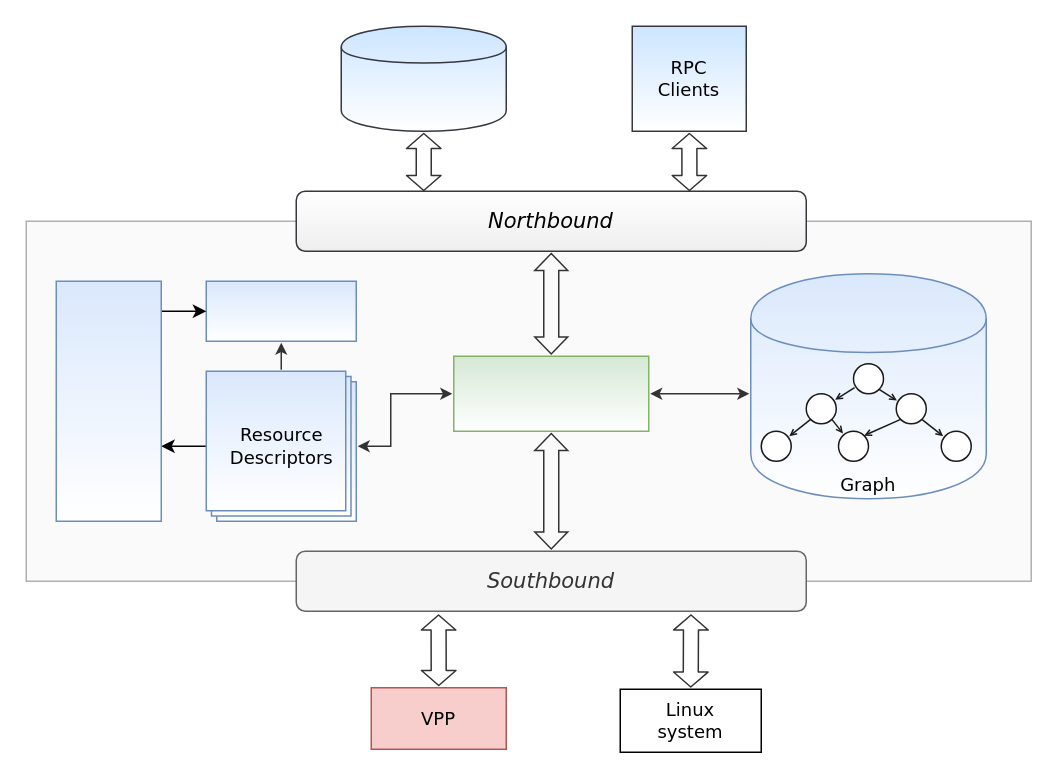
Image size: 1058x779. Some labels were removed from this diagram. The shapes that lost their labels are listed below. From the top down, each one's centre as x and y in pixels, then its label:
At [423,78]: "KV Data Store".
At [280,310]: "Model Registry".
At [108,400]: "Models".
At [550,393]: "KVScheduler".
